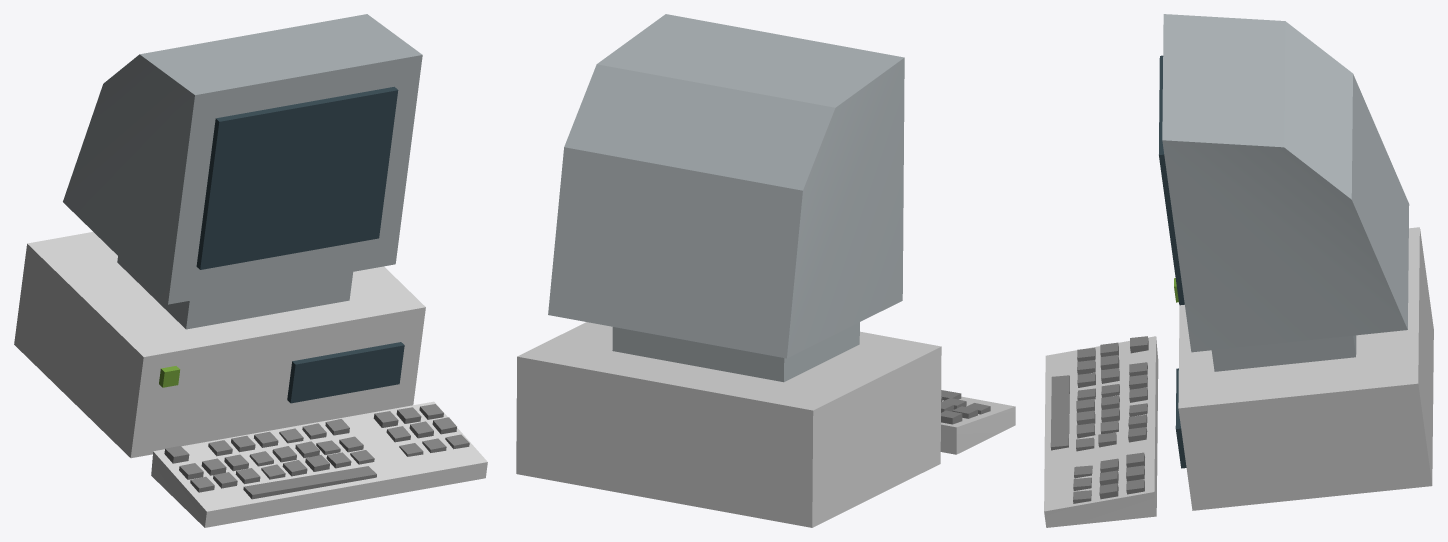
File: computer.glb
3 views of the same model, side by side, from view 1: azimuth 30°, elevation 25°; view 2: azimuth 150°, elevation 25°; view 3: azimuth 270°, elevation 25° (orthographic). The views are drawn at different scales.
Visible parts, largest first — view 1: node_MeshObject-1947017216-PolyPaper21; view 2: node_MeshObject-1947017216-PolyPaper21; view 3: node_MeshObject-1947017216-PolyPaper21.
Part boxes in pixels (left/top/right/bottom): node_MeshObject-1947017216-PolyPaper21: left=14, top=14, right=487, bottom=527; node_MeshObject-1947017216-PolyPaper21: left=516, top=14, right=1015, bottom=527; node_MeshObject-1947017216-PolyPaper21: left=1044, top=14, right=1433, bottom=527.
Bounding box in the file's own units: 0.3734 × 0.4885 × 0.4318.
